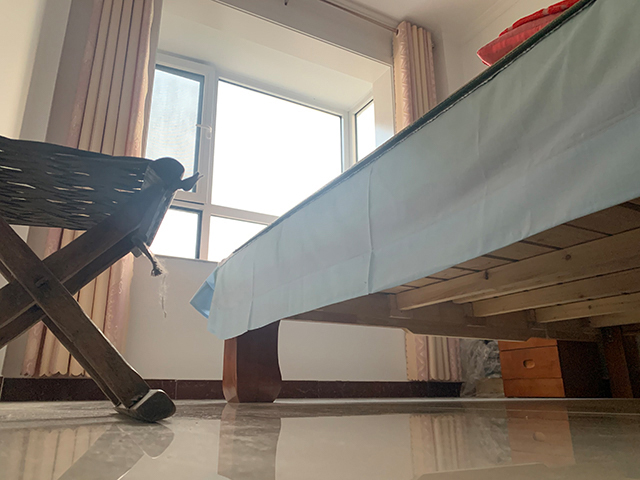bed: (190, 1, 640, 405)
cabinet: (497, 336, 607, 399)
curtain: (21, 1, 154, 378), (392, 19, 462, 382)
stool: (1, 133, 184, 424)
